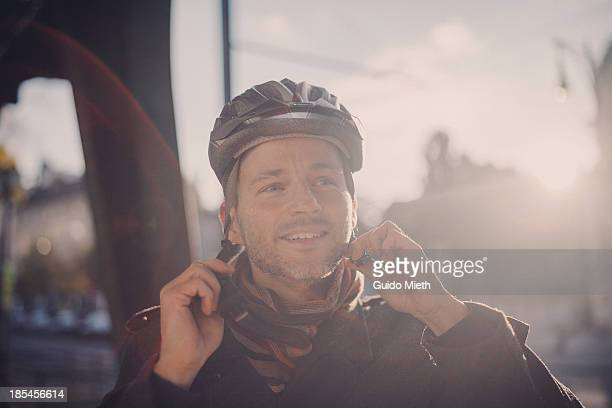helmet: (207, 79, 365, 281)
